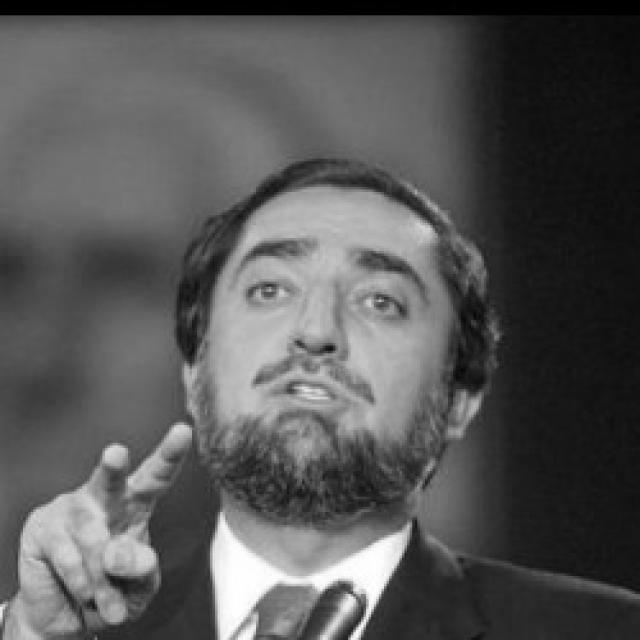real: (204, 184, 456, 508), (231, 258, 415, 328)
